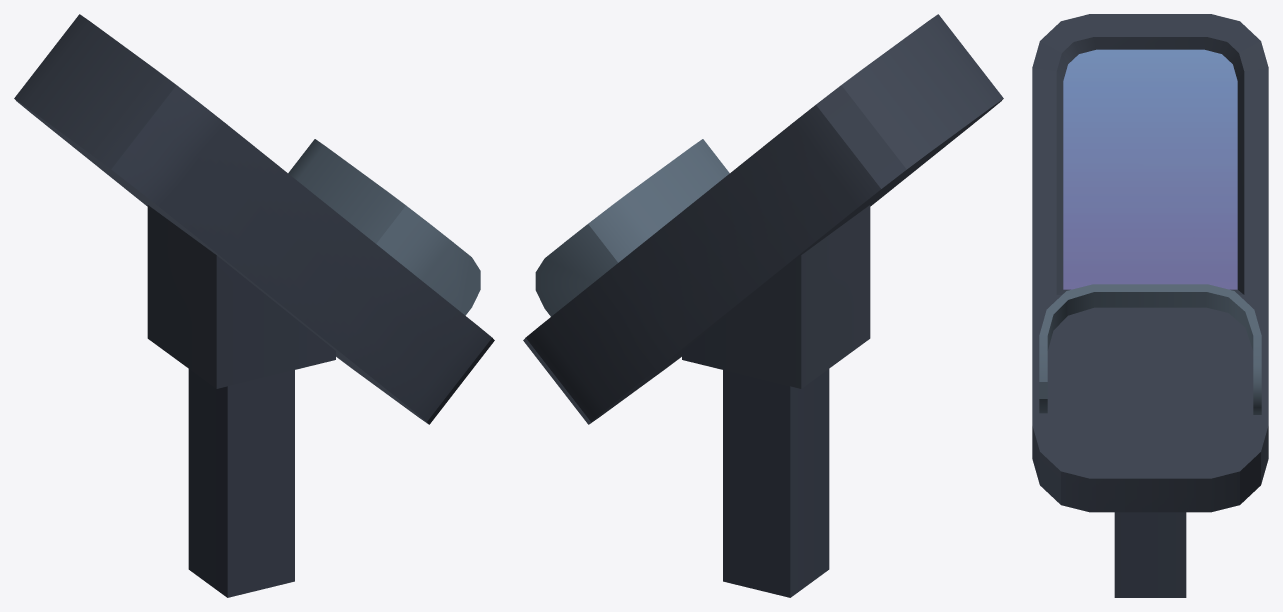
File: Terminal.fbx
3 renders of one model, left to right at view 1: azimuth 30°, elevation 25°; view 2: azimuth 150°, elevation 25°; view 3: azimuth 270°, elevation 25°, orthographic. The views are drawn at different scales.
Visible parts, largest first — view 1: Terminal; view 2: Terminal; view 3: Terminal.
Boxes of the visible parts, x1,y1,x2,y2 form: Terminal: (14,14,494,597); Terminal: (523,14,1003,597); Terminal: (1032,14,1268,597).
Bounding box in the file's own units: 8.3 × 11.25 × 4.68.
